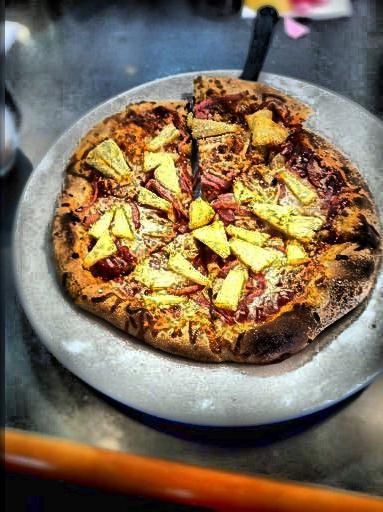pizza: (23, 74, 375, 367)
